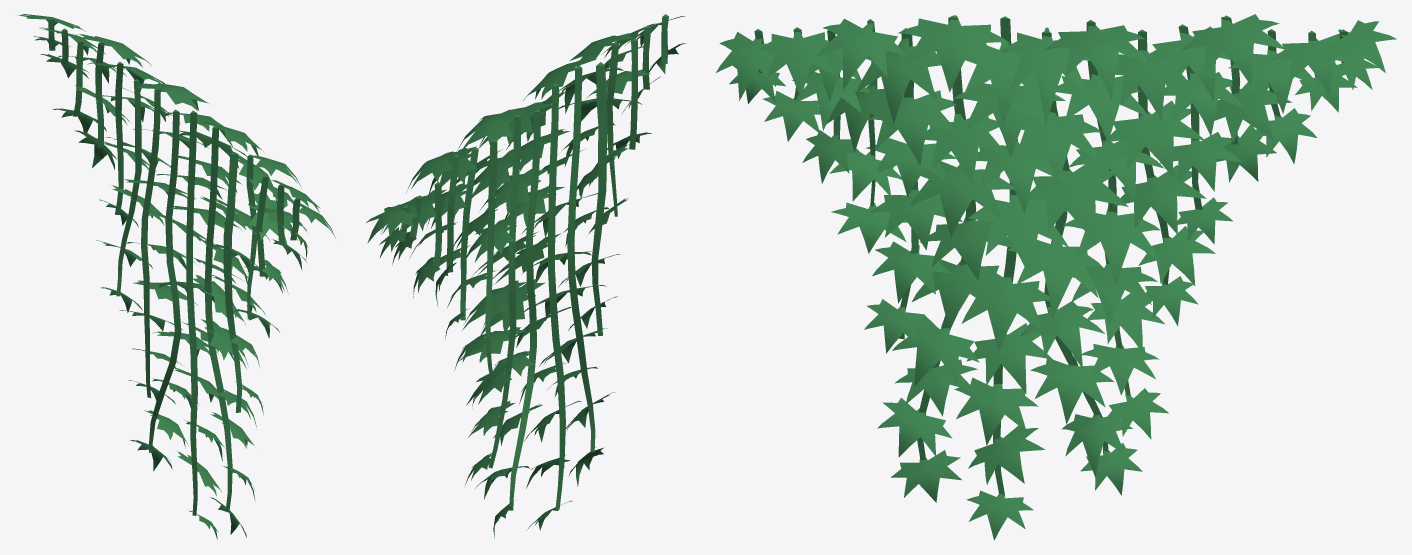
File: vine_A_pack_alangium.fbx
3 views of the same model, side by side, from view 1: azimuth 30°, elevation 25°; view 2: azimuth 150°, elevation 25°; view 3: azimuth 270°, elevation 25° (orthographic). The views are drawn at different scales.
Visible parts, largest first — view 1: vine_A_pack_scanden_root_A, vine_A_pack_scanden_root_B, vine_A_pack_scanden_root_C, vine_A_pack_scanden_root_E, vine_A_pack_scanden_root_D, vine_A_pack_scanden_root_F, vine_A_pack_scanden_root_H, vine_A_pack_scanden_root_G, vine_A_pack_scanden_root_L, vine_alangium_A_leaf_B441, vine_A_pack_scanden_root_I, vine_alangium_A_leaf_B430 (+11 smaller); view 2: vine_A_pack_scanden_root_A, vine_A_pack_scanden_root_C, vine_A_pack_scanden_root_B, vine_A_pack_scanden_root_E, vine_A_pack_scanden_root_D, vine_A_pack_scanden_root_F, vine_A_pack_scanden_root_H, vine_alangium_A_leaf_B441, vine_A_pack_scanden_root_G, vine_alangium_A_leaf_B, vine_A_pack_scanden_root_L, vine_alangium_A_leaf_B453 (+25 smaller); view 3: vine_alangium_A_leaf_B399, vine_alangium_A_leaf_B414, vine_alangium_A_leaf_B402, vine_alangium_A_leaf_B441, vine_alangium_A_leaf_B416, vine_alangium_A_leaf_B443, vine_alangium_A_leaf_B468, vine_alangium_A_leaf_B458, vine_alangium_A_leaf_B, vine_alangium_A_leaf_B400, vine_alangium_A_leaf_B412, vine_alangium_A_leaf_B419 (+59 smaller).
Part boxes in pixels (x1,y1,x2,y2): vine_A_pack_scanden_root_A: [186, 110, 197, 515]; vine_A_pack_scanden_root_B: [204, 126, 232, 509]; vine_A_pack_scanden_root_C: [149, 109, 181, 452]; vine_A_pack_scanden_root_E: [141, 87, 160, 397]; vine_A_pack_scanden_root_D: [223, 152, 242, 412]; vine_A_pack_scanden_root_F: [116, 79, 141, 296]; vine_A_pack_scanden_root_H: [115, 61, 123, 214]; vine_A_pack_scanden_root_G: [246, 154, 256, 319]; vine_A_pack_scanden_root_L: [95, 41, 104, 147]; vine_alangium_A_leaf_B441: [135, 83, 208, 111]; vine_A_pack_scanden_root_I: [256, 175, 268, 276]; vine_alangium_A_leaf_B430: [248, 192, 297, 244]; vine_A_pack_scanden_root_A: [548, 83, 565, 509]; vine_A_pack_scanden_root_C: [509, 109, 540, 510]; vine_A_pack_scanden_root_B: [567, 65, 595, 452]; vine_A_pack_scanden_root_E: [488, 114, 521, 468]; vine_A_pack_scanden_root_D: [591, 62, 607, 335]; vine_A_pack_scanden_root_F: [485, 139, 497, 383]; vine_A_pack_scanden_root_H: [460, 147, 478, 320]; vine_alangium_A_leaf_B441: [456, 109, 526, 151]; vine_A_pack_scanden_root_G: [606, 42, 618, 216]; vine_alangium_A_leaf_B: [479, 169, 548, 215]; vine_A_pack_scanden_root_L: [446, 154, 459, 272]; vine_alangium_A_leaf_B453: [472, 149, 524, 197]; vine_alangium_A_leaf_B399: [1028, 163, 1128, 244]; vine_alangium_A_leaf_B414: [898, 15, 1009, 92]; vine_alangium_A_leaf_B402: [968, 194, 1068, 277]; vine_alangium_A_leaf_B441: [1045, 25, 1150, 99]; vine_alangium_A_leaf_B416: [910, 161, 1014, 237]; vine_alangium_A_leaf_B443: [1103, 100, 1204, 176]; vine_alangium_A_leaf_B468: [1001, 27, 1090, 124]; vine_alangium_A_leaf_B458: [1182, 14, 1285, 85]; vine_alangium_A_leaf_B: [1015, 112, 1102, 186]; vine_alangium_A_leaf_B400: [1006, 240, 1103, 319]; vine_alangium_A_leaf_B412: [953, 83, 1065, 157]; vine_alangium_A_leaf_B419: [912, 259, 1012, 330].
Bounding box in the file's own units: 30.74 × 160 × 193.
